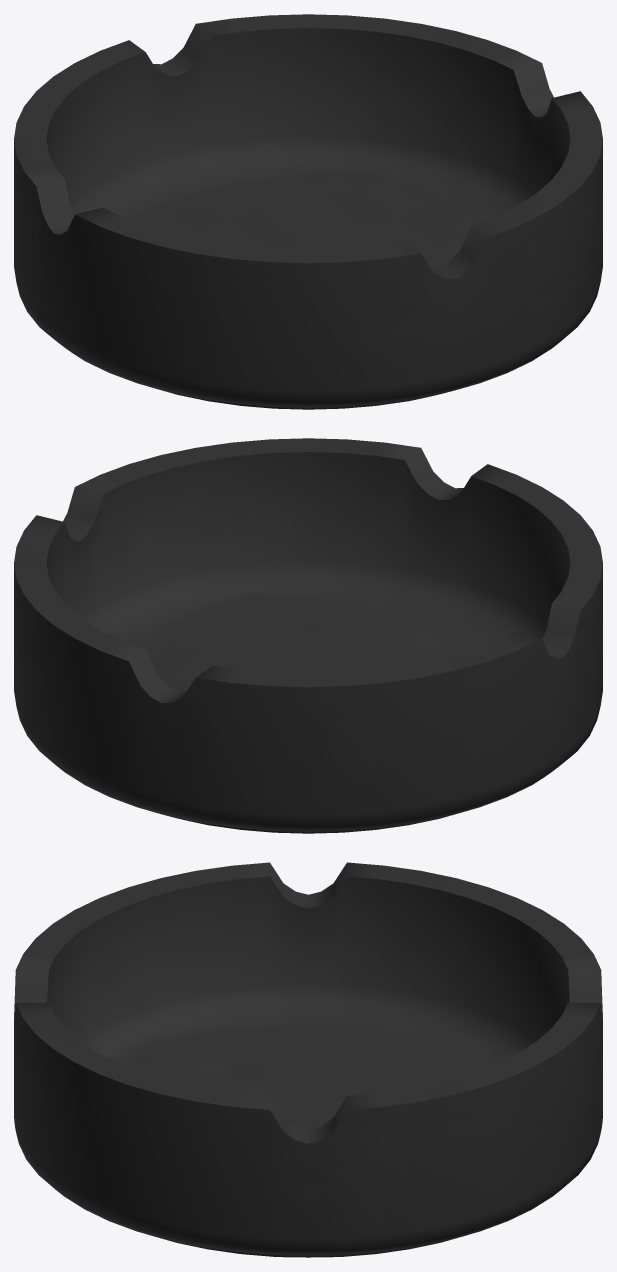
The model's file is ashtray.glb.
3 renders of one model, top to bottom at view 1: azimuth 30°, elevation 25°; view 2: azimuth 150°, elevation 25°; view 3: azimuth 270°, elevation 25°, orthographic.
Parts seen in each view (by area): view 1: Ashtray; view 2: Ashtray; view 3: Ashtray.
Boxes of the visible parts, x1,y1,x2,y2 form: Ashtray: [14, 14, 602, 409]; Ashtray: [14, 438, 602, 833]; Ashtray: [14, 862, 602, 1257].
Bounding box in the file's own units: 0.0997 × 0.03 × 0.0997.
1 material, 1 textured.
